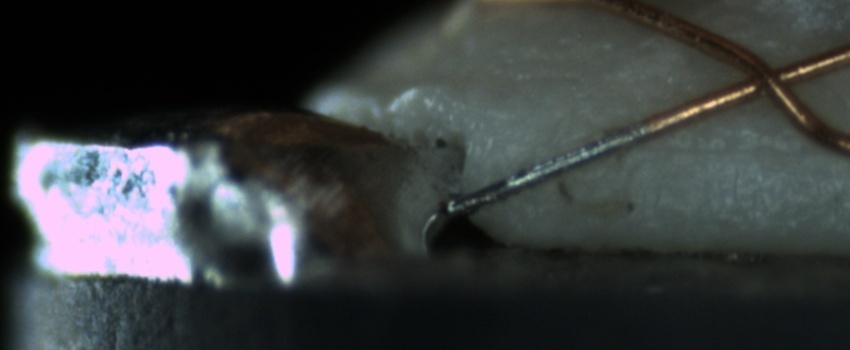CL: (719, 41, 815, 113)
DL: (627, 121, 843, 178)
TS: (441, 120, 650, 215)
